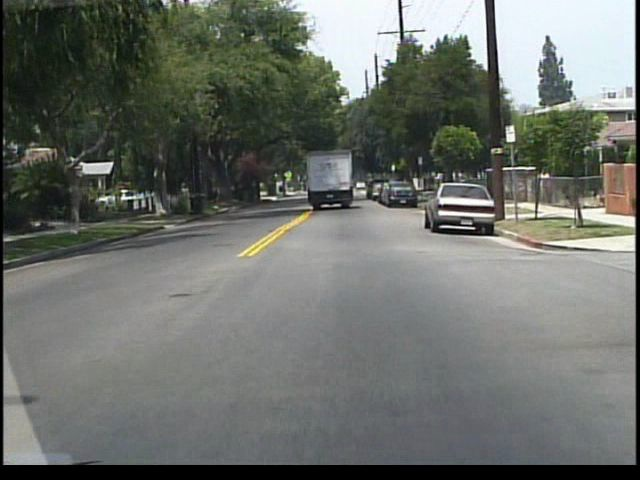person: (535, 166, 551, 203)
